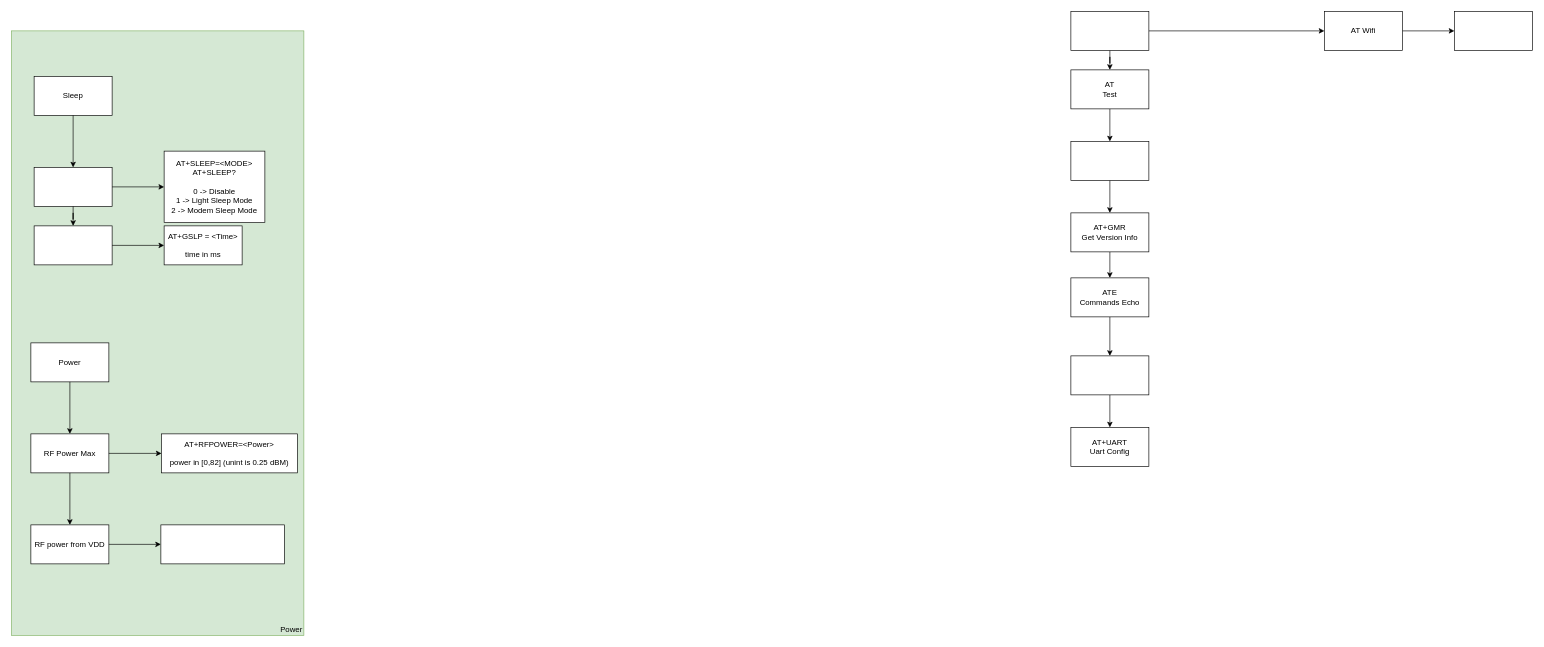
This 1544x647 diagram has some shape labels left out. Here are the shapes that lost their labels. From the top down, the centre of each, then its label:
the point at 1109,30: AT Basic
the point at 1493,30: AT TCP/UDP/IP
the point at 1109,160: AT+RST Restart
the point at 72,186: Sleep Mode
the point at 72,245: Sleep Time
the point at 1109,375: AT+RESTORE Factory Reset
the point at 222,544: AT+RFVDD? AT+RFVDD=<VDDValue> AT_RFVDD ( automaticly set)
